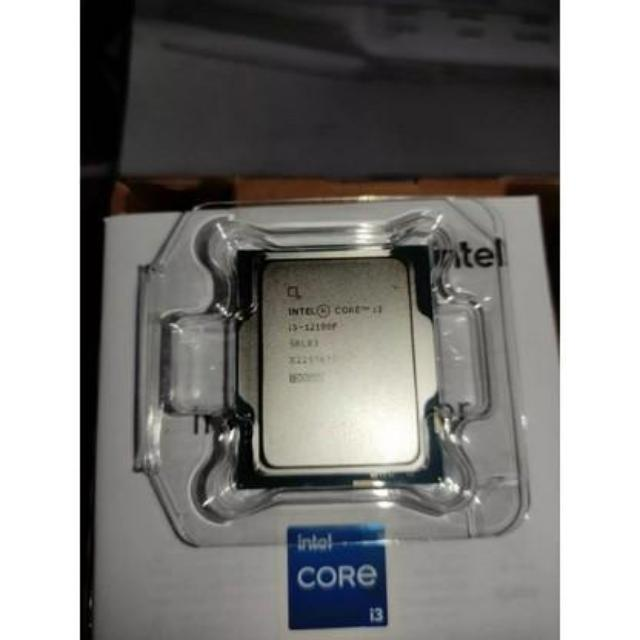CPU: (233, 238, 439, 494)
